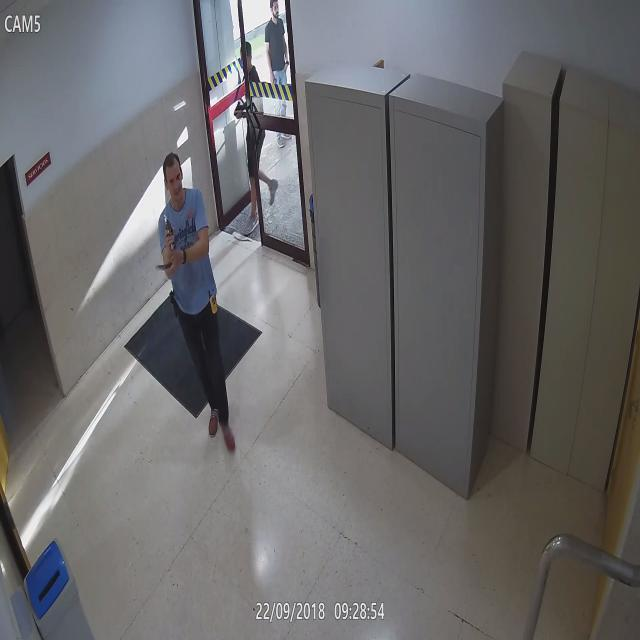Gun: (162, 210, 178, 249), (232, 99, 244, 120)
